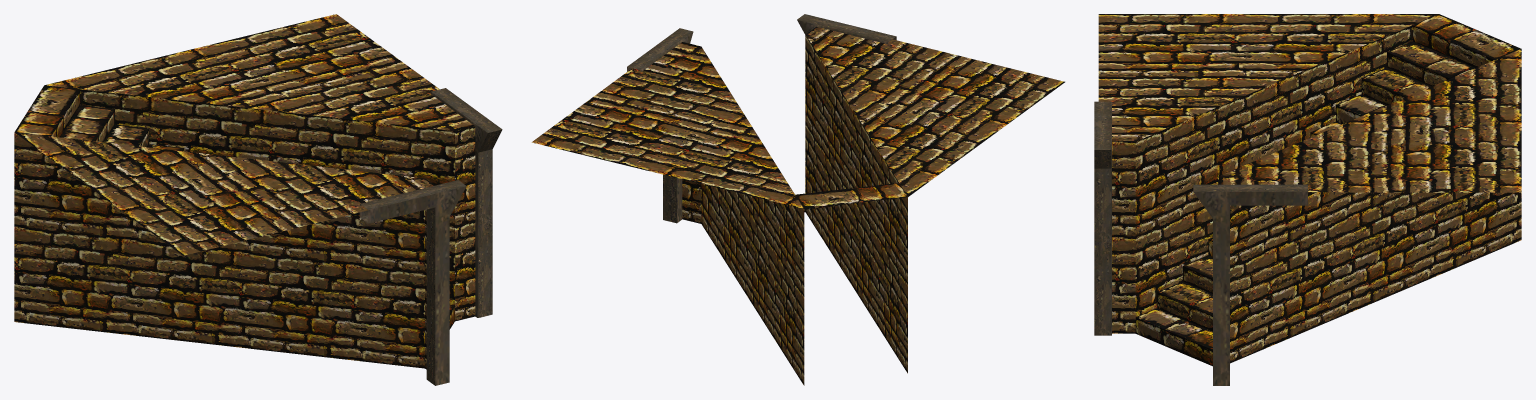
The model's file is stoneStairsA.fbx.
3 renders of one model, left to right at view 1: azimuth 30°, elevation 25°; view 2: azimuth 150°, elevation 25°; view 3: azimuth 270°, elevation 25°, orthographic. The views are drawn at different scales.
Parts seen in each view (by area): view 1: stoneStairsA; view 2: stoneStairsA; view 3: stoneStairsA.
Part boxes in pixels (box(x1,y1,x2,y2)): stoneStairsA: box(14, 14, 502, 385); stoneStairsA: box(531, 14, 1064, 385); stoneStairsA: box(1094, 14, 1521, 385).
Size of the model in its own units: 600 by 301 by 600.
